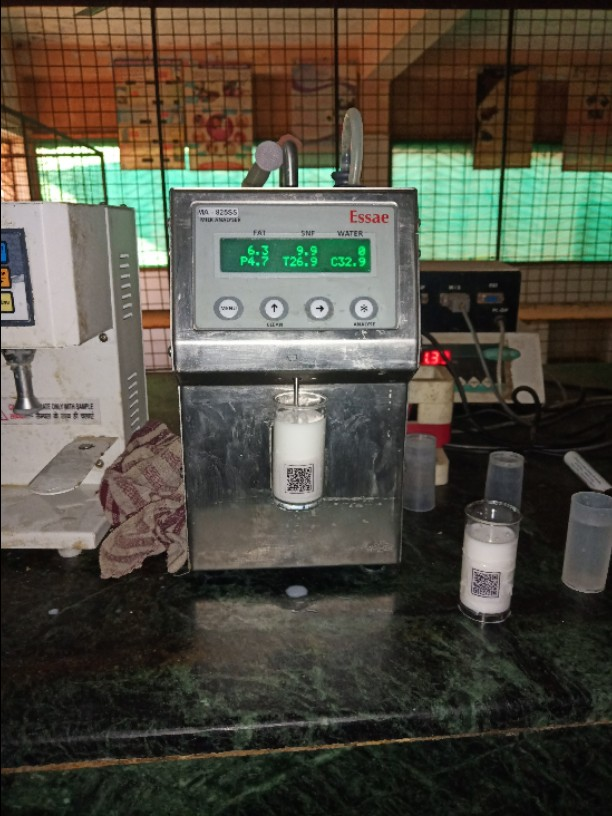lcd: (215, 231, 374, 279)
qr: (280, 462, 317, 499), (468, 566, 504, 601)
